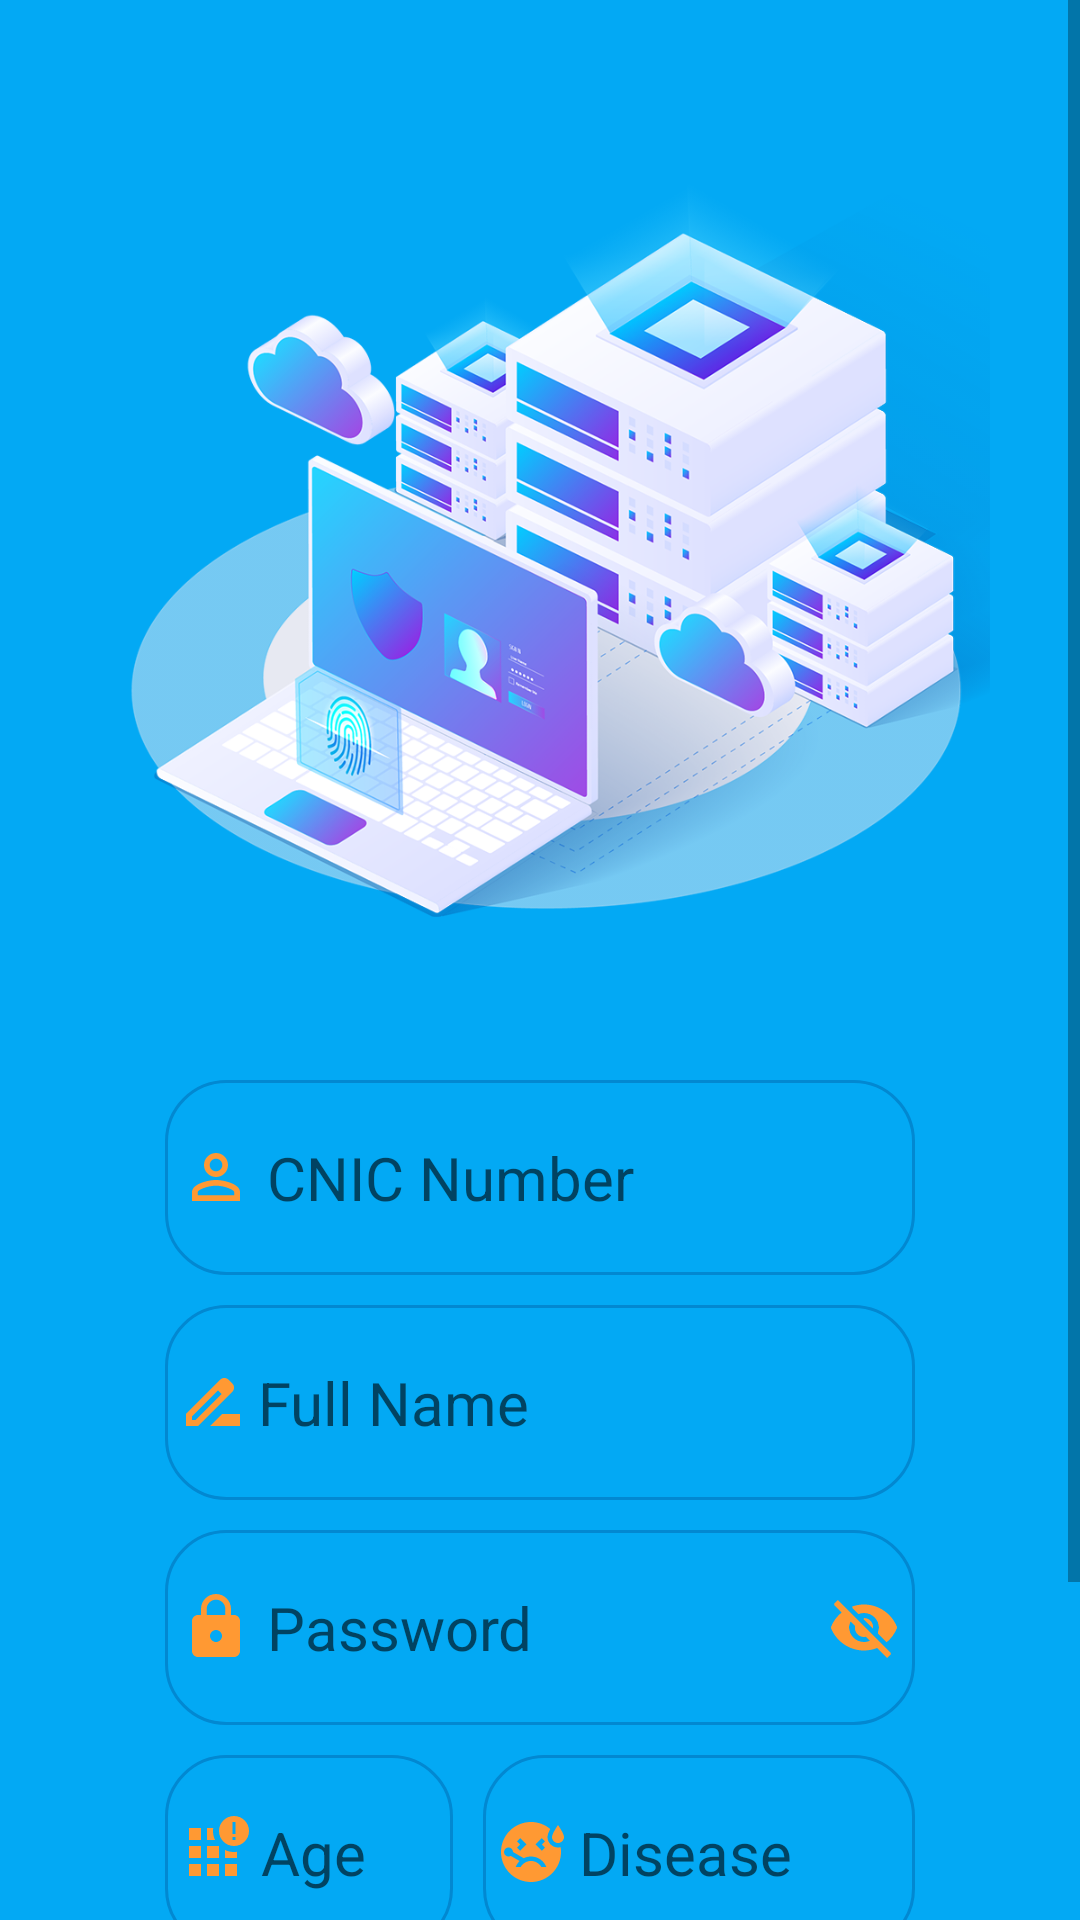

Icon click points for this 1080px x 1920px phone screenshot, format point (x, y):
visibility off: point (864, 1629)
